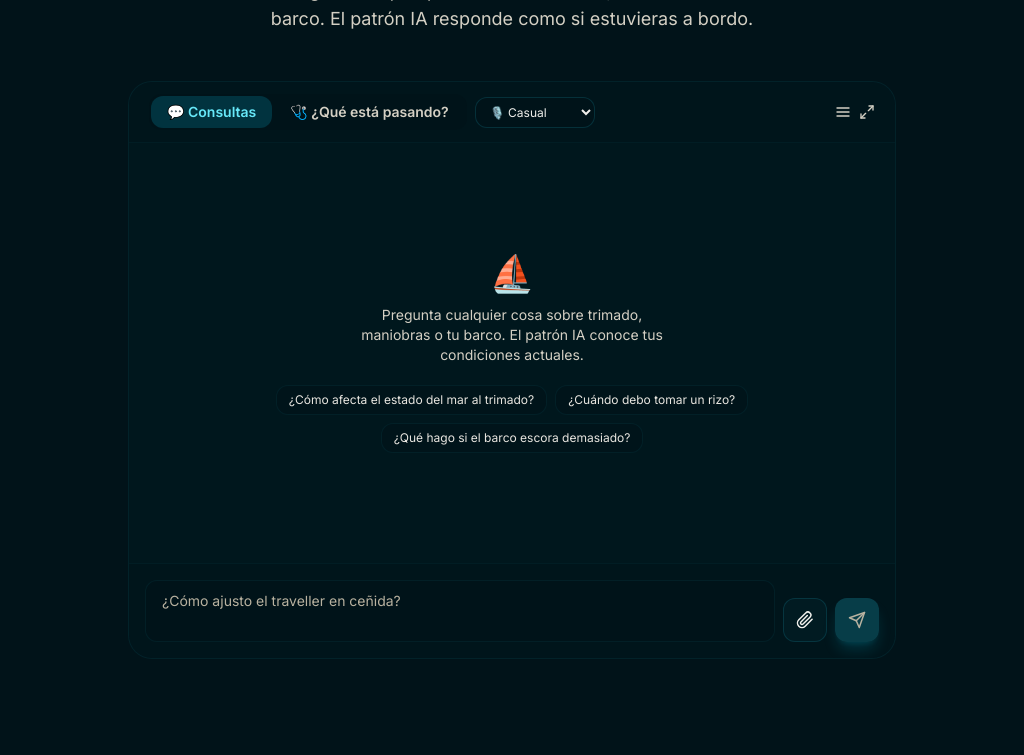
Test: ChatPanel › shows an error when sending without an API key
(page scrolled)
Type "¿cómo trimo en ceñida?" into the text box at coordinates (460, 611), box [145, 580, 775, 642]
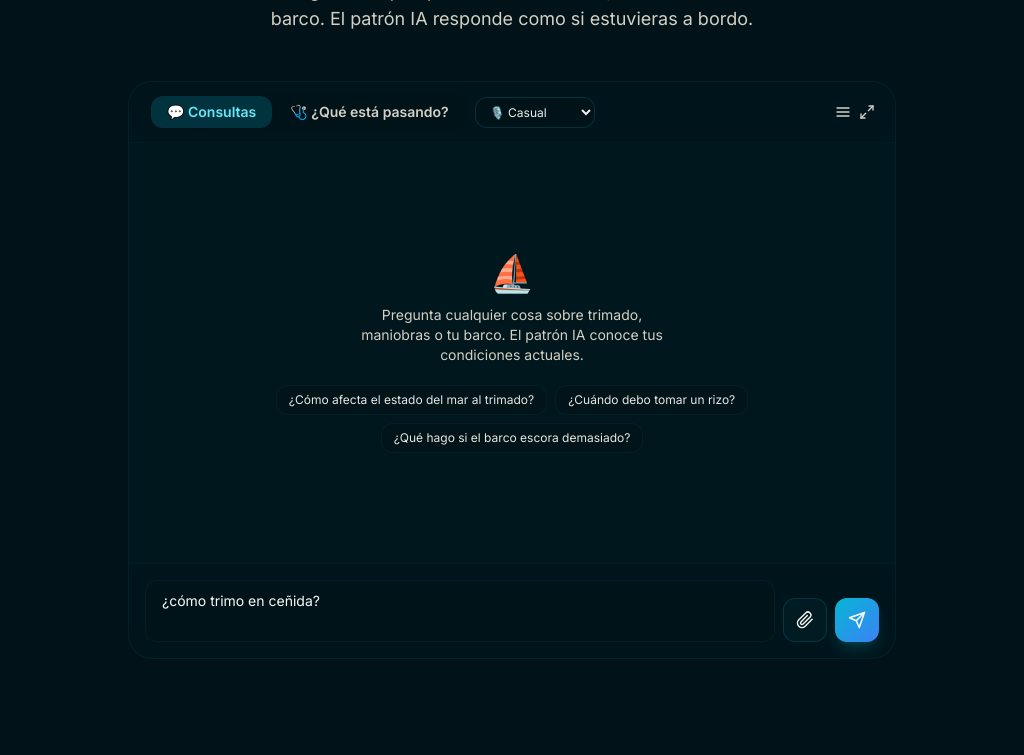
Click the button named "Enviar mensaje" at coordinates (857, 620), box [835, 598, 879, 642]
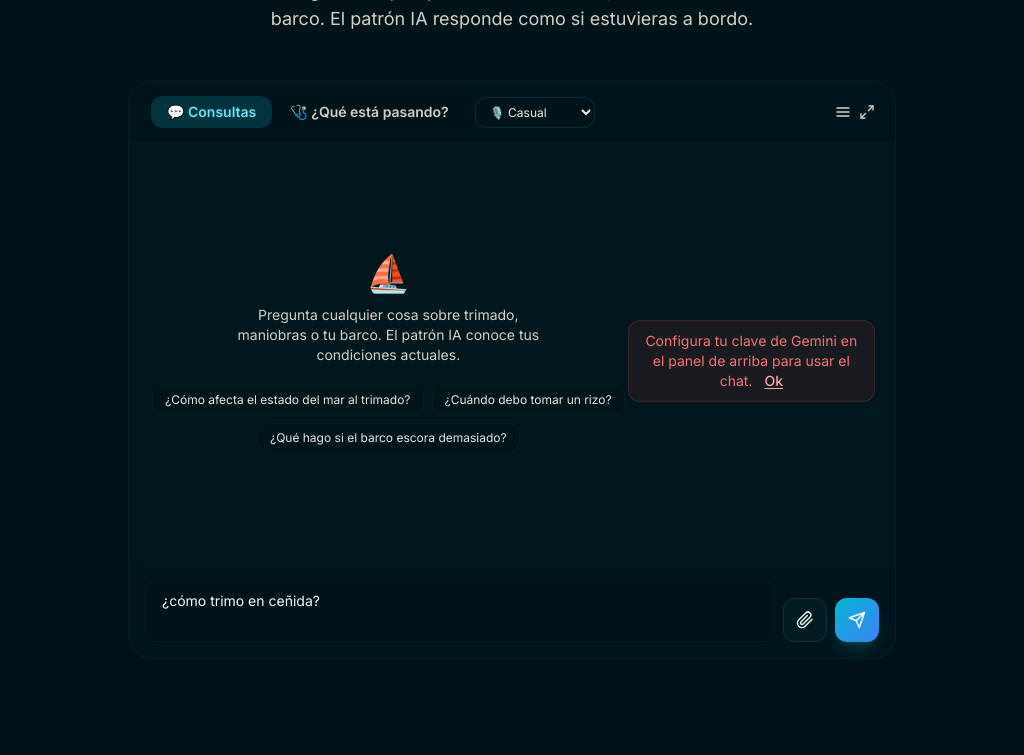
Result: the text "Configura tu clave de Gemini" is shown at [645, 332, 857, 389]
